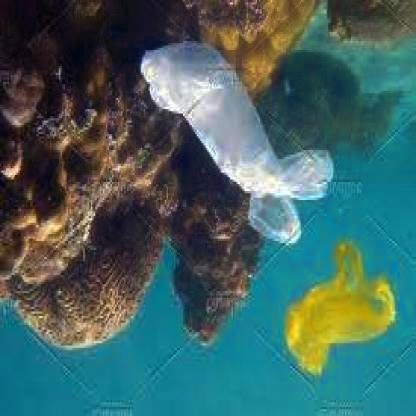pbag: (141, 38, 334, 246), (283, 241, 398, 384)
